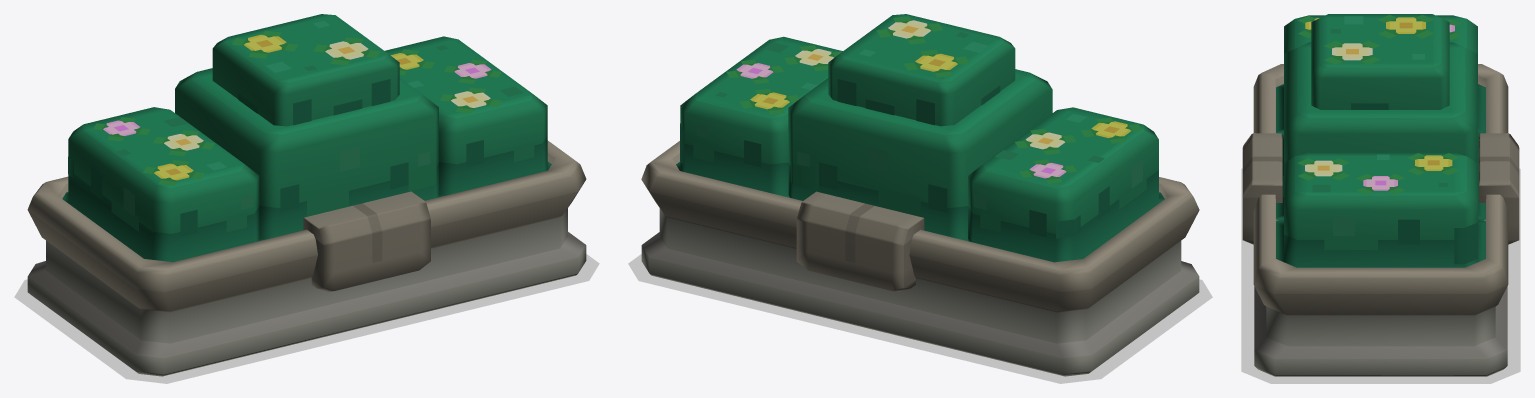
Rendered from MG_flower_rect_small.fbx.
The picture shows the model from 3 angles, left to right: view 1: azimuth 30°, elevation 25°; view 2: azimuth 150°, elevation 25°; view 3: azimuth 270°, elevation 25°; orthographic projection.
Parts seen in each view (by area): view 1: model, ground; view 2: model, ground; view 3: model, ground.
Boxes of the visible parts, <box> form: model: <box>27,14,586,376</box>; ground: <box>14,254,599,383</box>; model: <box>641,14,1199,376</box>; ground: <box>628,254,1212,383</box>; model: <box>1242,14,1519,376</box>; ground: <box>1241,168,1520,383</box>.
Bounding box in the file's own units: 9.77 × 4.62 × 5.08.
